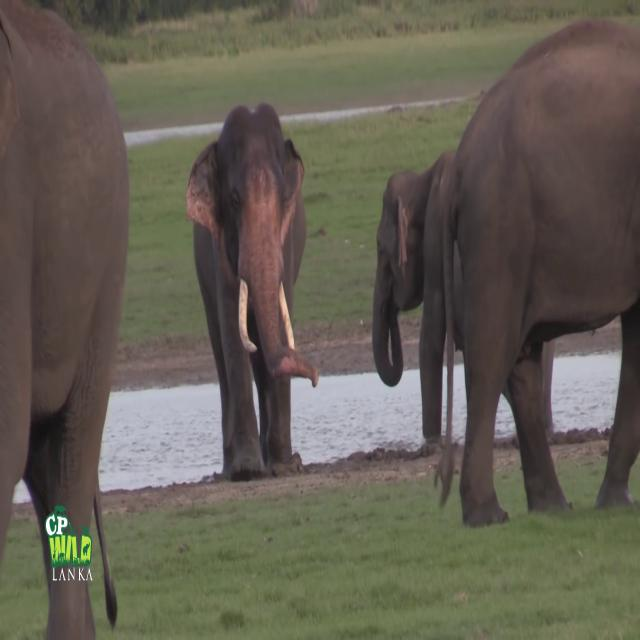Elephant: (434, 15, 639, 527), (0, 0, 130, 639), (372, 148, 556, 449), (185, 100, 319, 481)
